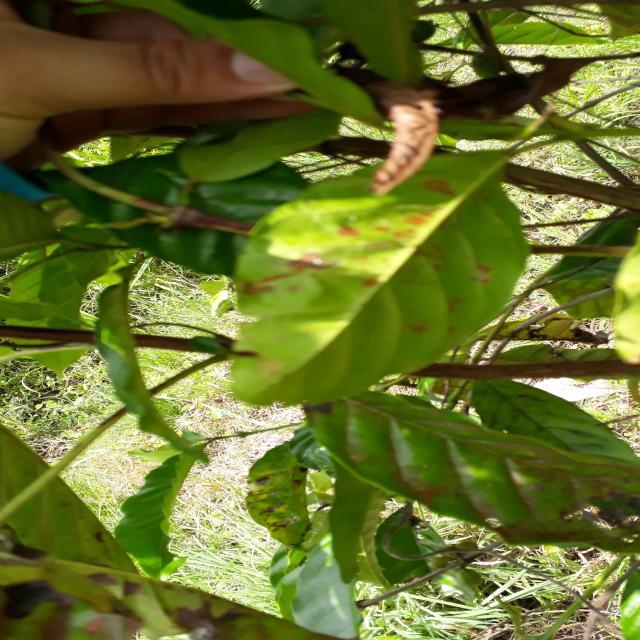Plaga-AranaRoja: (230, 143, 533, 408)
